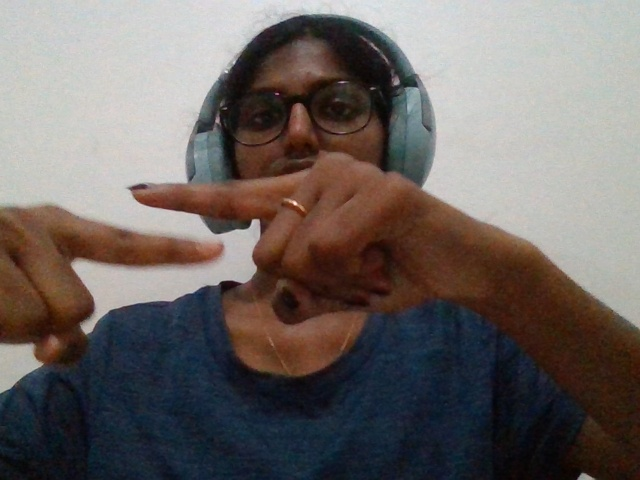Sign: (4, 103, 556, 427)
